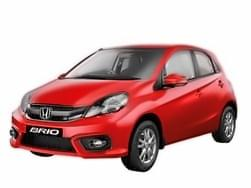Car hood: (23, 77, 149, 109)
Fender - -F-L-: (121, 74, 168, 143)
Front bumper: (7, 107, 142, 158)
Headlight - -L-: (82, 91, 131, 118)
Headlight - -R-: (20, 89, 32, 118)
Passenger-s door - -F-L-: (155, 38, 203, 152)
Passenger-s door - -R-L-: (188, 40, 225, 140)
Side bumper - -L-: (157, 112, 222, 155)
Side mirror - -L-: (163, 72, 187, 91)
